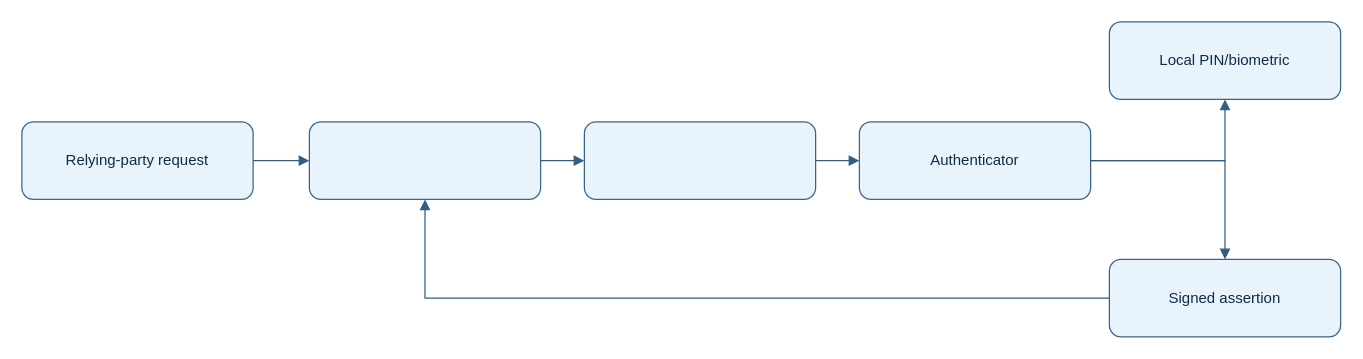
Image size: 1363x359. Some labels were removed from this diagram. Each missing label, with the centre of its shape:
Browser UV request: point (699, 160)
FortiAuthenticator policy: point (424, 160)
